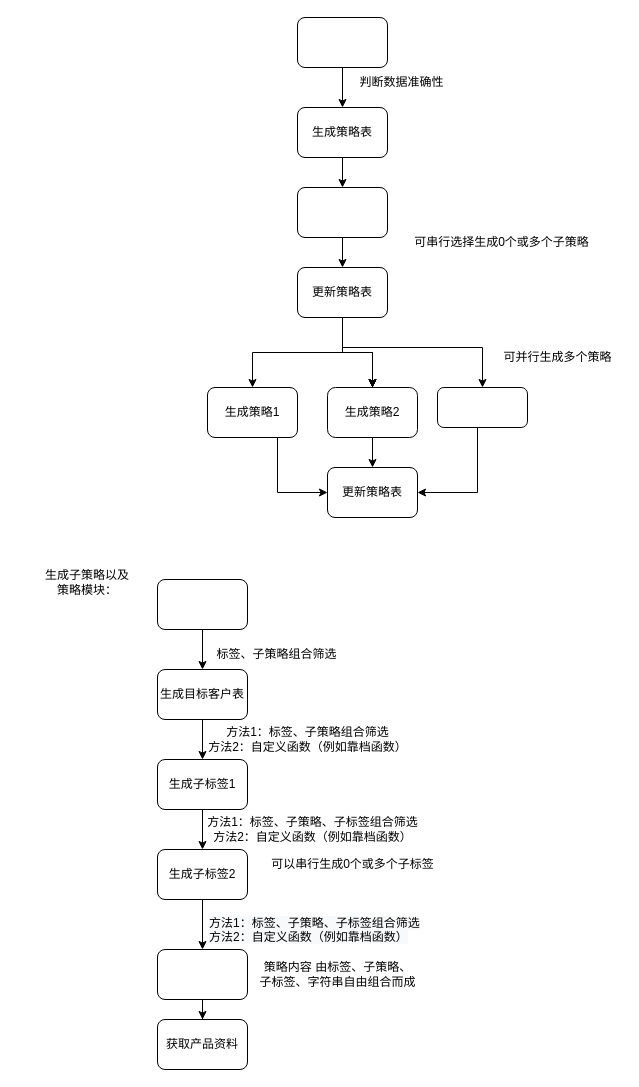
Image size: 639x1087. Some labels were removed from this diagram. Here are the shapes that lost their labels. From the top down, the centre of each, then its label:
the point at 342,42: 标签表
the point at 342,212: 生成子策略1
the point at 482,407: 生成策略3
the point at 202,604: 策略表
the point at 202,974: 生成策略或子策略
